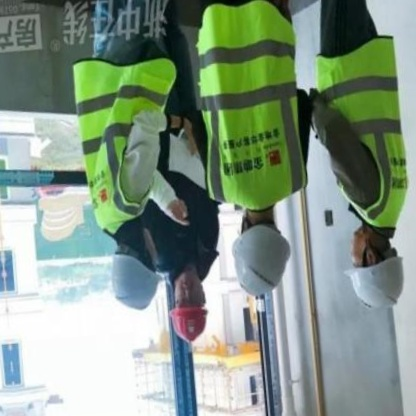red: (165, 298, 222, 347)
vest: (186, 0, 318, 219), (64, 49, 192, 239), (309, 29, 416, 245)
white: (226, 218, 302, 304), (101, 245, 173, 318), (339, 251, 416, 317)
